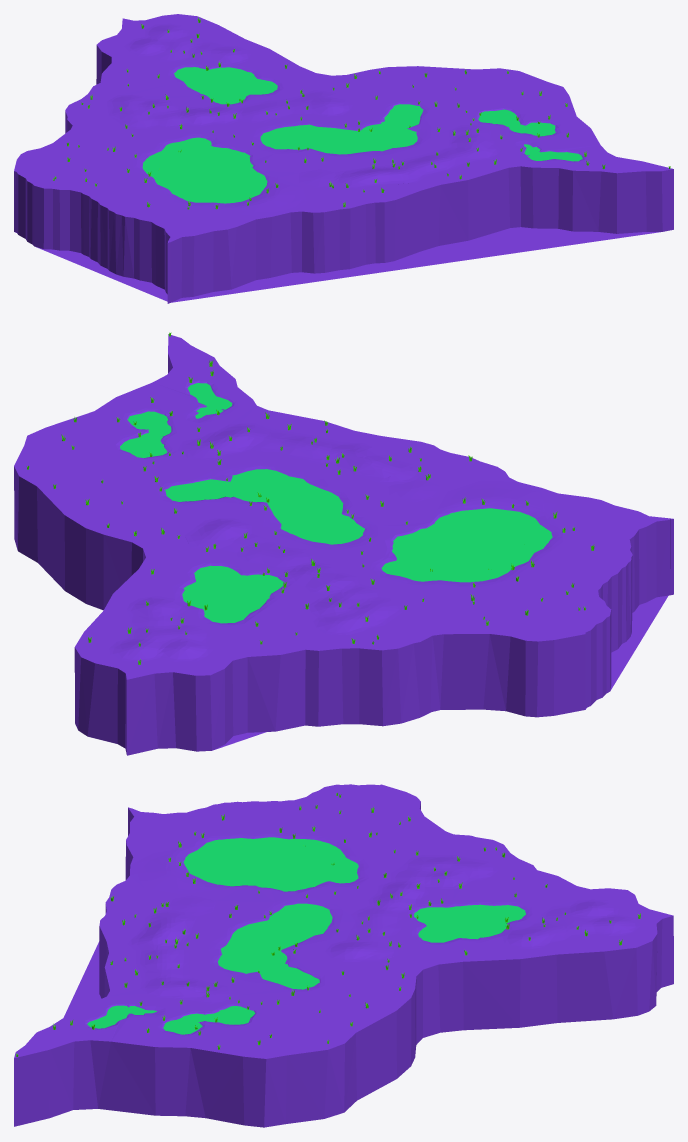
Rendered from DesolateLevelPart1.fbx.
3 renders of one model, top to bottom at view 1: azimuth 30°, elevation 25°; view 2: azimuth 150°, elevation 25°; view 3: azimuth 270°, elevation 25°, orthographic. The views are drawn at different scales.
Visible parts, largest first — view 1: Demon_Desolate_Part1_Level, Demon_Desolate_Part1_Lake_Level; view 2: Demon_Desolate_Part1_Level, Demon_Desolate_Part1_Lake_Level; view 3: Demon_Desolate_Part1_Level, Demon_Desolate_Part1_Lake_Level.
Boxes of the visible parts, x1=… form: Demon_Desolate_Part1_Level: x1=14, y1=14, x2=673, y2=303; Demon_Desolate_Part1_Lake_Level: x1=142, y1=67, x2=582, y2=203; Demon_Desolate_Part1_Level: x1=14, y1=334, x2=673, y2=755; Demon_Desolate_Part1_Lake_Level: x1=120, y1=383, x2=552, y2=623; Demon_Desolate_Part1_Level: x1=14, y1=784, x2=673, y2=1127; Demon_Desolate_Part1_Lake_Level: x1=87, y1=837, x2=525, y2=1034.
Size of the model in its own units: 1719 by 1746 by 220.
